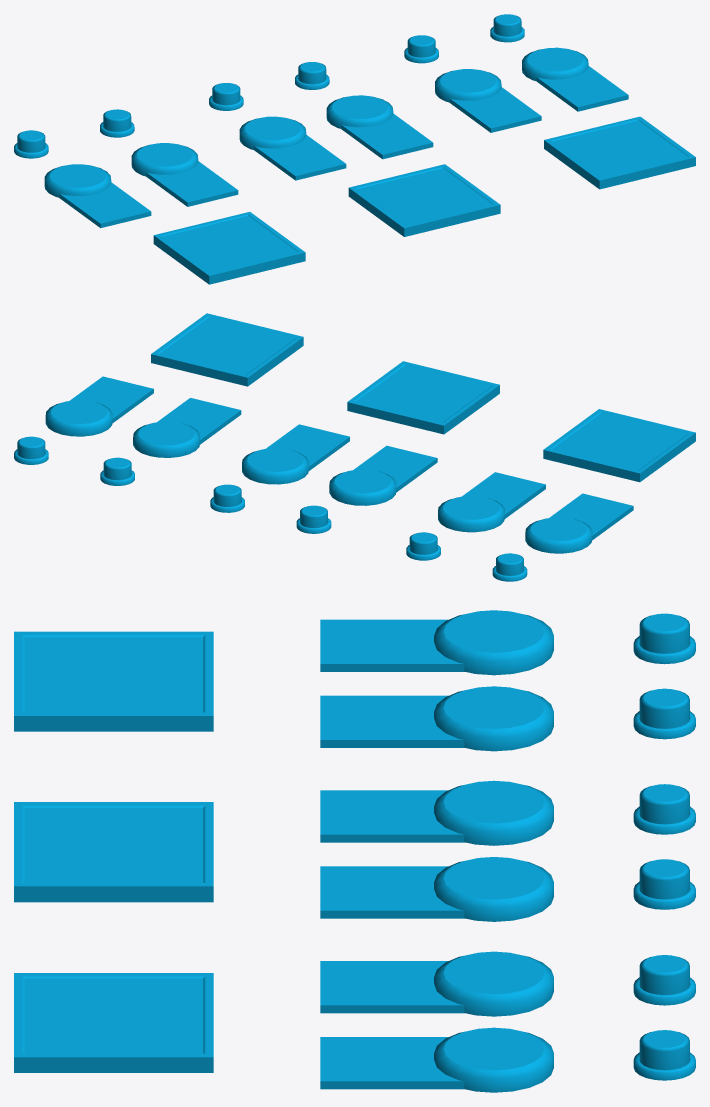
File: Button_W_Grp_02_Lod0.fbx
The picture shows the model from 3 angles, top to bottom: view 1: azimuth 30°, elevation 25°; view 2: azimuth 150°, elevation 25°; view 3: azimuth 270°, elevation 25°; orthographic projection. The views are drawn at different scales.
Parts seen in each view (by area): view 1: Button_W_Grp_02_Lod0; view 2: Button_W_Grp_02_Lod0; view 3: Button_W_Grp_02_Lod0.
Boxes of the visible parts, x1,y1,x2,y2 form: Button_W_Grp_02_Lod0: (14,14,695,284); Button_W_Grp_02_Lod0: (14,313,695,581); Button_W_Grp_02_Lod0: (14,610,695,1092).
Bounding box in the file's own units: 57.29 × 1.63 × 35.26.
